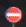No entry: (5, 5, 21, 22)
